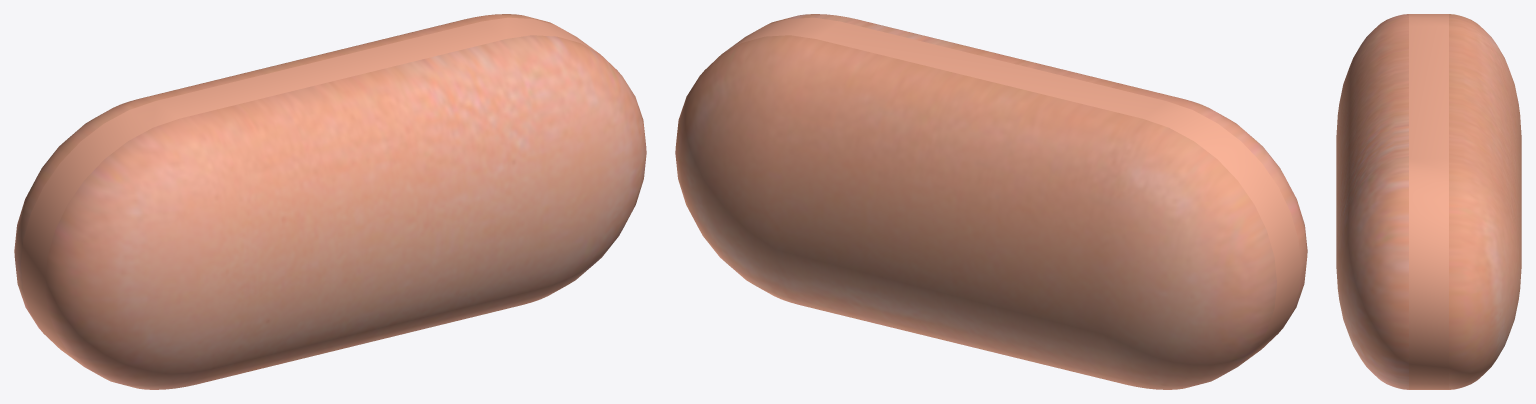
File: 20140311GOPHDRGPT02376.fbx
3 renders of one model, left to right at view 1: azimuth 30°, elevation 25°; view 2: azimuth 150°, elevation 25°; view 3: azimuth 270°, elevation 25°, orthographic. The views are drawn at different scales.
Parts seen in each view (by area): view 1: 球體.023; view 2: 球體.023; view 3: 球體.023.
Part boxes in pixels (x1,y1,x2,y2): 球體.023: (14, 14, 646, 389); 球體.023: (675, 14, 1307, 389); 球體.023: (1336, 14, 1521, 389).
Bounding box in the file's own units: 1.98 × 0.839 × 0.6432.
